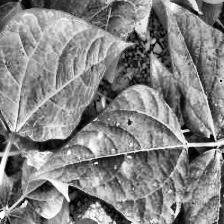ALS: (35, 84, 192, 224), (0, 9, 130, 141), (159, 0, 224, 134), (182, 136, 224, 224)
